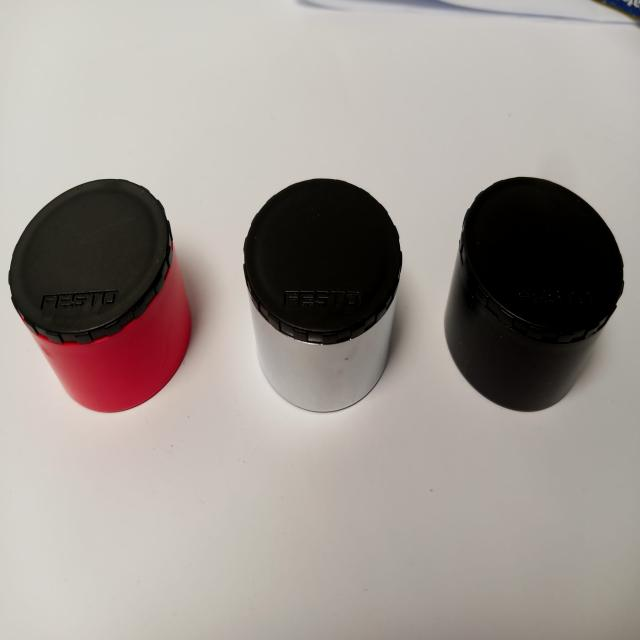Workpiece: (0, 170, 207, 428), (452, 169, 622, 420), (239, 172, 405, 420)
